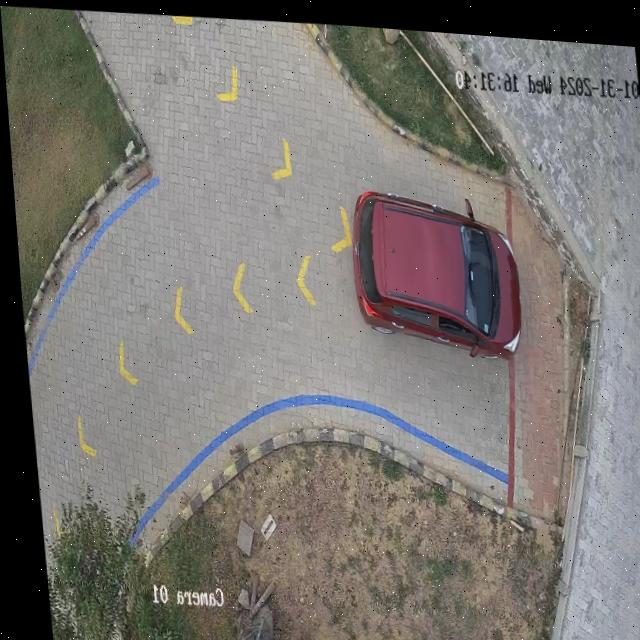car: (348, 185, 517, 352)
